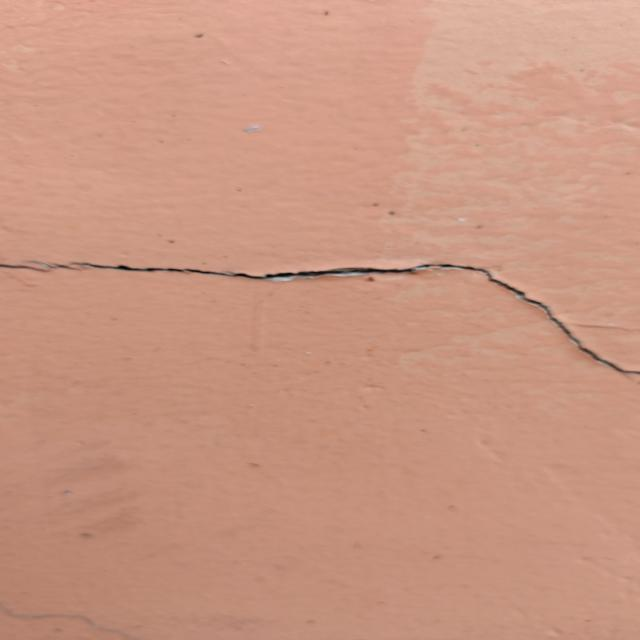curved crack: (0, 260, 639, 376)
